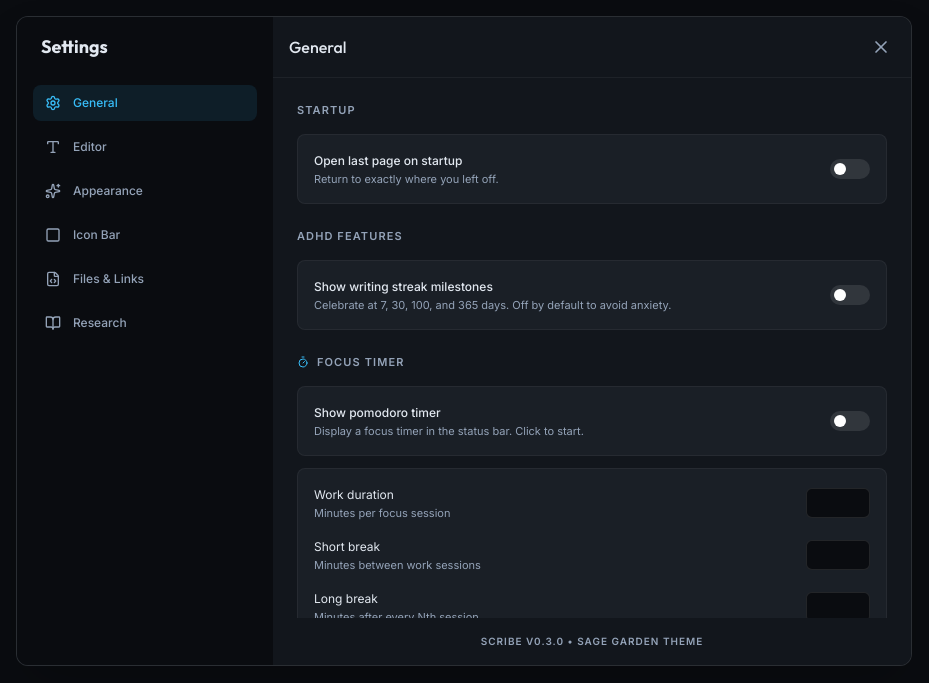
it: SettingsModal › Tab Navigation › should switch to Appearance tab
Click the button "Appearance".
click(145, 191)  # box 33,173 -> 257,209
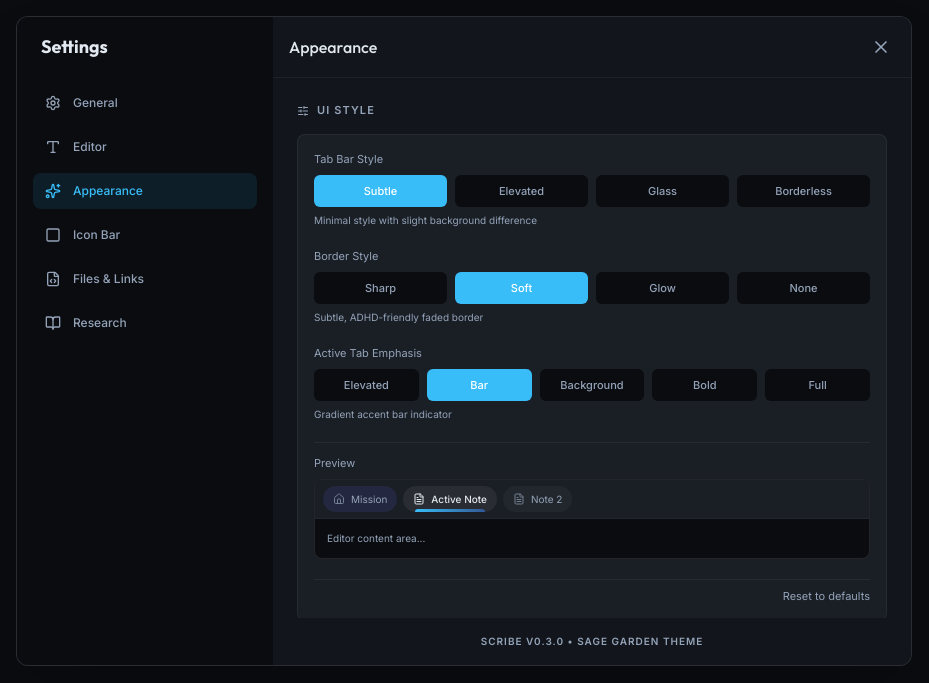
Expected: the text "Tab Bar Style" is shown, 314,152 -> 383,166
